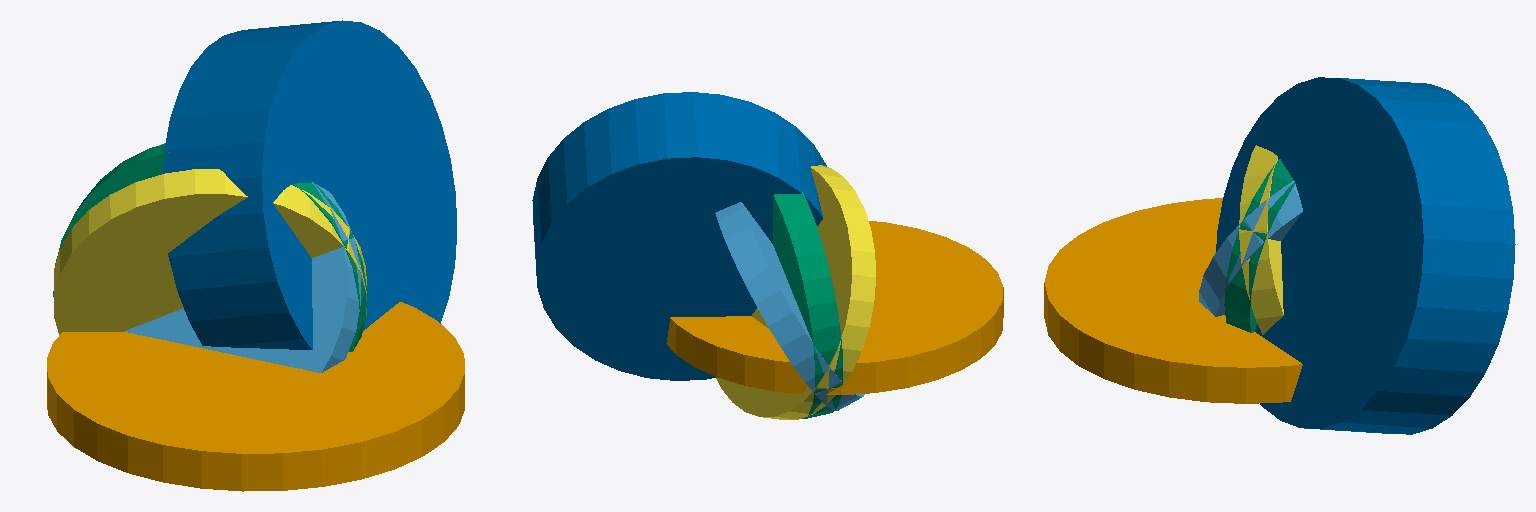
The robot description file, URDF, robot "pepe":
<?xml version="1.0"?><robot name="pepe">
	<link name="0">
		<visual>
			<geometry>
				<cylinder length="0.19610720124607206" radius="0.9931007327245829"/>
			</geometry>
		</visual>
		<collision>
			<geometry>
				<cylinder length="0.19610720124607206" radius="0.9931007327245829"/>
			</geometry>
		</collision>
		<inertial>
			<mass value="0.6076171439530331"/>
			<inertia ixx="0.03" iyy="0.03" izz="0.03" ixy="0" ixz="0" iyx="0"/>
		</inertial>
	</link>
	<link name="11">
		<visual>
			<geometry>
				<cylinder length="0.16964879964299762" radius="0.7428329102250689"/>
			</geometry>
		</visual>
		<collision>
			<geometry>
				<cylinder length="0.16964879964299762" radius="0.7428329102250689"/>
			</geometry>
		</collision>
		<inertial>
			<mass value="0.2940918142233932"/>
			<inertia ixx="0.03" iyy="0.03" izz="0.03" ixy="0" ixz="0" iyx="0"/>
		</inertial>
	</link>
	<link name="12">
		<visual>
			<geometry>
				<cylinder length="0.16964879964299762" radius="0.7428329102250689"/>
			</geometry>
		</visual>
		<collision>
			<geometry>
				<cylinder length="0.16964879964299762" radius="0.7428329102250689"/>
			</geometry>
		</collision>
		<inertial>
			<mass value="0.2940918142233932"/>
			<inertia ixx="0.03" iyy="0.03" izz="0.03" ixy="0" ixz="0" iyx="0"/>
		</inertial>
	</link>
	<link name="13">
		<visual>
			<geometry>
				<cylinder length="0.16964879964299762" radius="0.7428329102250689"/>
			</geometry>
		</visual>
		<collision>
			<geometry>
				<cylinder length="0.16964879964299762" radius="0.7428329102250689"/>
			</geometry>
		</collision>
		<inertial>
			<mass value="0.2940918142233932"/>
			<inertia ixx="0.03" iyy="0.03" izz="0.03" ixy="0" ixz="0" iyx="0"/>
		</inertial>
	</link>
	<link name="24">
		<visual>
			<geometry>
				<cylinder length="0.5589147564346608" radius="0.868380439107918"/>
			</geometry>
		</visual>
		<collision>
			<geometry>
				<cylinder length="0.5589147564346608" radius="0.868380439107918"/>
			</geometry>
		</collision>
		<inertial>
			<mass value="1.3240839244465092"/>
			<inertia ixx="0.03" iyy="0.03" izz="0.03" ixy="0" ixz="0" iyx="0"/>
		</inertial>
	</link>
	<joint name="11_to_0" type="revolute">
		<parent link="0"/>
		<child link="11"/>
		<axis xyz="0 1 0"/>
		<limit effort="1" upper="-3.1415" lower="3.1415" velocity="1"/>
		<origin rpy="7.260630678094698 5.8192714570866055 5.588018297339496" xyz="0.015161379848786627 0.4586209210296376 0.2871934869280588"/>
	</joint>
	<joint name="12_to_0" type="revolute">
		<parent link="0"/>
		<child link="12"/>
		<axis xyz="0 1 0"/>
		<limit effort="1" upper="-3.1415" lower="3.1415" velocity="1"/>
		<origin rpy="10.890946017142046 5.8192714570866055 5.588018297339496" xyz="0.015161379848786627 0.4586209210296376 0.2871934869280588"/>
	</joint>
	<joint name="13_to_0" type="revolute">
		<parent link="0"/>
		<child link="13"/>
		<axis xyz="0 1 0"/>
		<limit effort="1" upper="-3.1415" lower="3.1415" velocity="1"/>
		<origin rpy="14.521261356189395 5.8192714570866055 5.588018297339496" xyz="0.015161379848786627 0.4586209210296376 0.2871934869280588"/>
	</joint>
	<joint name="24_to_0" type="revolute">
		<parent link="0"/>
		<child link="24"/>
		<axis xyz="1 0 0"/>
		<limit effort="1" upper="-3.1415" lower="3.1415" velocity="1"/>
		<origin rpy="27.00634955411521 3.2751497643177387 0.5230529154334129" xyz="0.6308486394902775 0.5851029720876936 0.5362273358998587"/>
	</joint>
</robot>

--- Render facts (derived) ---
The picture shows the robot from 3 angles, left to right: view 1: azimuth 30°, elevation 25°; view 2: azimuth 150°, elevation 25°; view 3: azimuth 270°, elevation 25°; orthographic projection.
Robot: pepe — 5 links, 4 joints (4 revolute); root link 0; default pose: every joint at zero.
Visible links, largest first — view 1: 24, 0, 13, 11, 12; view 2: 24, 0, 13, 11, 12; view 3: 24, 0, 13, 11, 12.
Link boxes in pixels (x1,y1,x2,y2): 24: (163, 20, 456, 349); 0: (47, 302, 464, 491); 13: (54, 169, 366, 334); 11: (124, 143, 360, 372); 12: (53, 144, 366, 351); 24: (532, 92, 826, 380); 0: (666, 221, 1003, 394); 13: (716, 165, 875, 419); 11: (715, 202, 864, 410); 12: (773, 191, 842, 418); 24: (1216, 77, 1515, 434); 0: (1044, 198, 1302, 403); 13: (1239, 145, 1283, 334); 11: (1199, 181, 1302, 316); 12: (1224, 159, 1295, 332).
Bounding box of the posed robot: 2.51 × 2.32 × 1.91 m (x, y, z).
Geometry: primitives only (box / cylinder / sphere), no mesh files.
